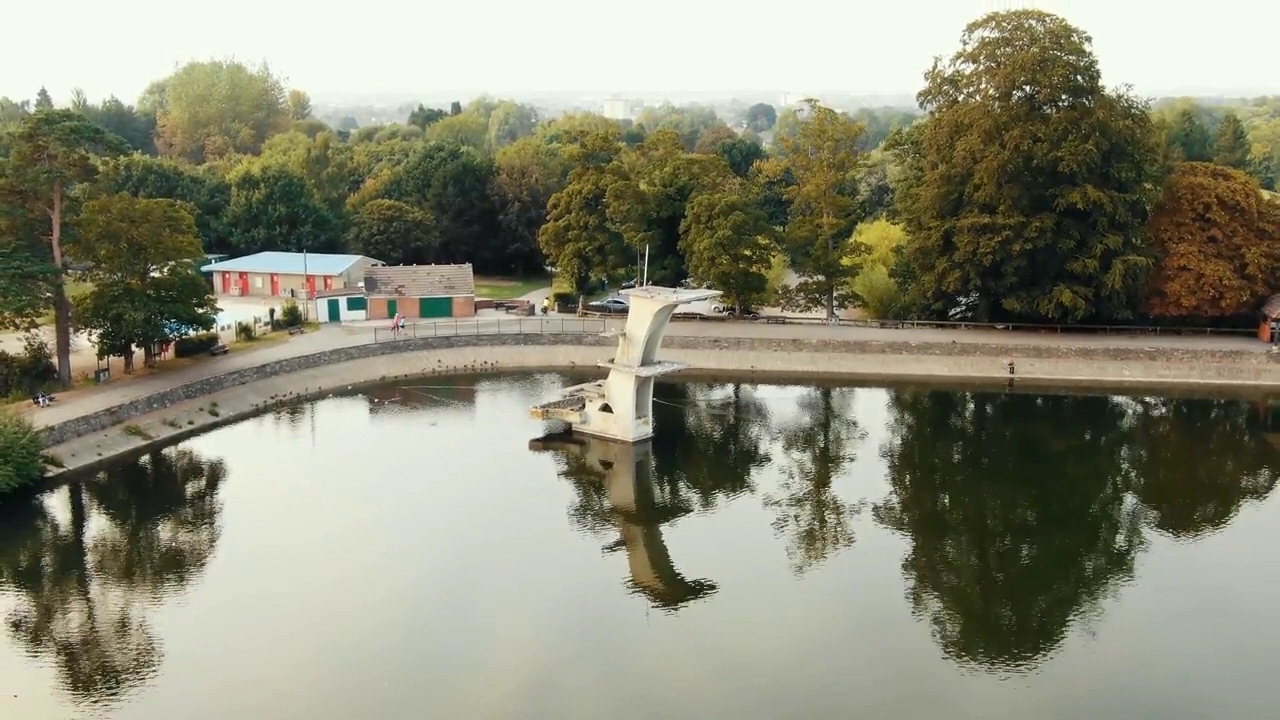araba: (585, 295, 634, 319)
insan: (1006, 355, 1020, 376), (397, 312, 410, 334), (539, 293, 551, 316), (35, 389, 49, 408)
